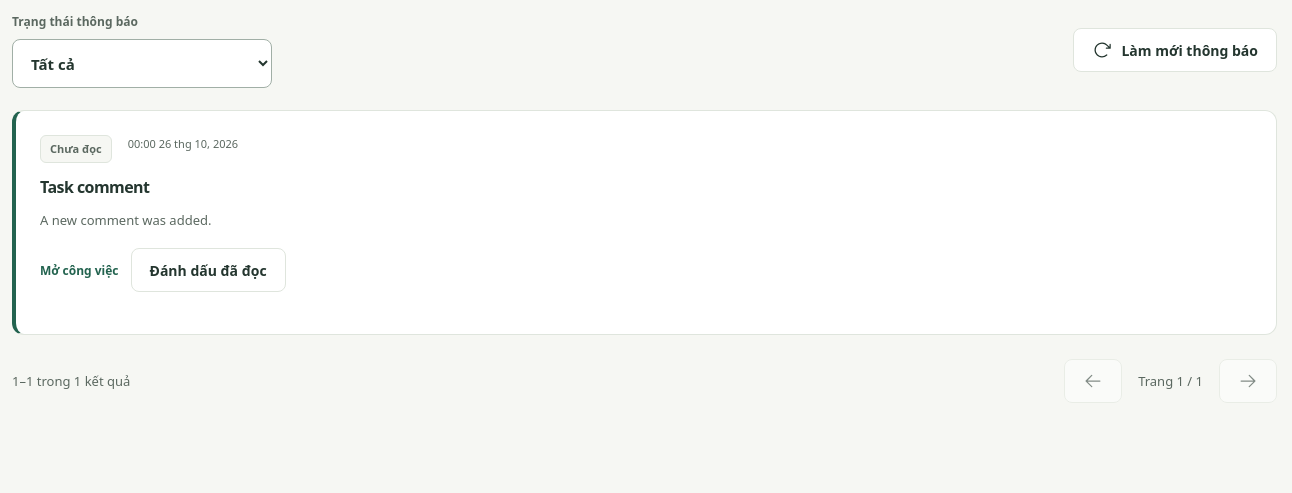
Personal notification UI › does not report success or retry automatically after a failed mark-read
The width and height of the screenshot is (1292, 493).
Click the button "Đánh dấu đã đọc": (208, 270) [130, 248, 286, 292]
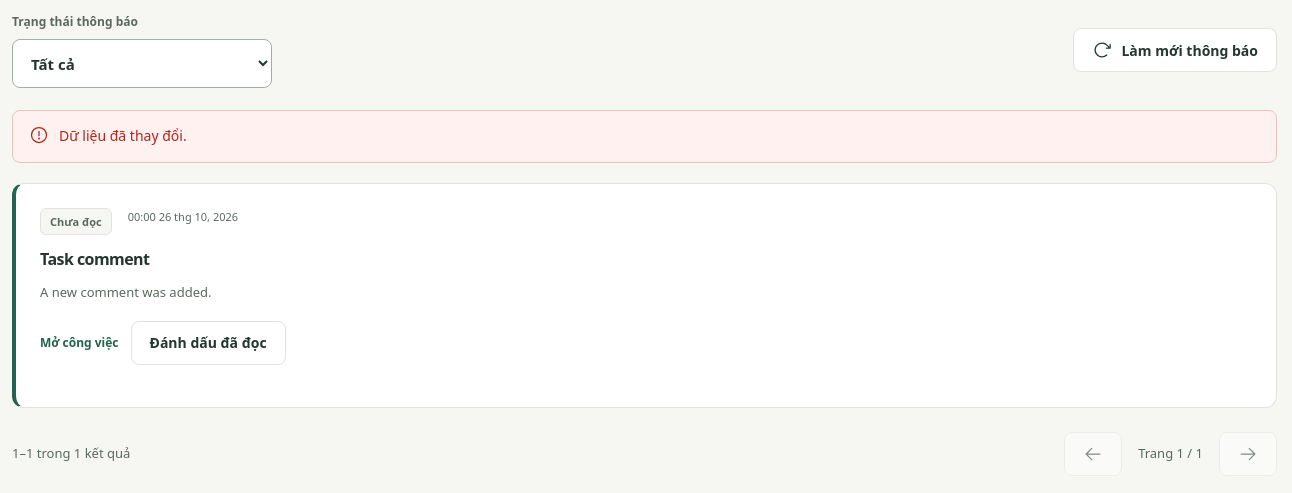
Now the message reads "Dữ liệu đã thay đổi.", box [59, 126, 187, 145]
